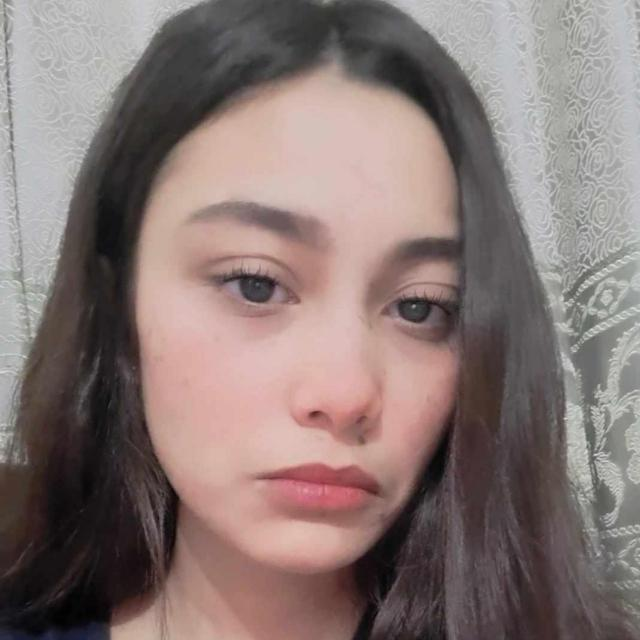Sad: (112, 84, 500, 593)
